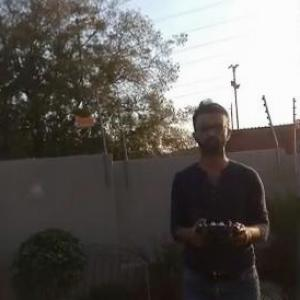follow: (164, 93, 274, 299)
